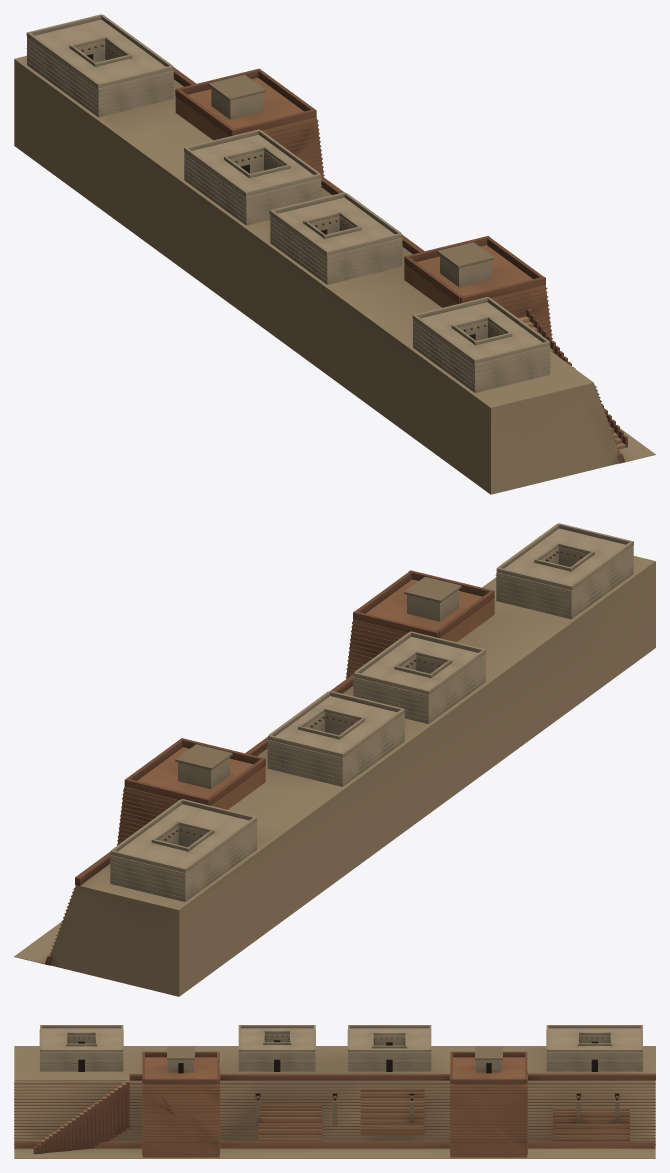
The model's file is citadel-platform.glb.
3 renders of one model, top to bottom at view 1: azimuth 30°, elevation 25°; view 2: azimuth 150°, elevation 25°; view 3: azimuth 270°, elevation 25°, orthographic. The views are drawn at different scales.
Parts seen in each view (by area): view 1: p0_platform, p2_buildings on top, p1_towers, drains and stair; view 2: p0_platform, p2_buildings on top, p1_towers, drains and stair; view 3: p0_platform, p2_buildings on top, p1_towers, drains and stair.
Part boxes in pixels (bbox=[...]): p0_platform: bbox=[14, 60, 655, 494]; p2_buildings on top: bbox=[14, 14, 593, 407]; p1_towers, drains and stair: bbox=[175, 68, 627, 449]; p0_platform: bbox=[14, 561, 655, 996]; p2_buildings on top: bbox=[75, 523, 655, 910]; p1_towers, drains and stair: bbox=[117, 570, 494, 845]; p0_platform: bbox=[14, 1046, 655, 1158]; p2_buildings on top: bbox=[14, 1025, 655, 1080]; p1_towers, drains and stair: bbox=[33, 1046, 619, 1157].
Bounding box in the file's own units: 20 × 14.59 × 100.
